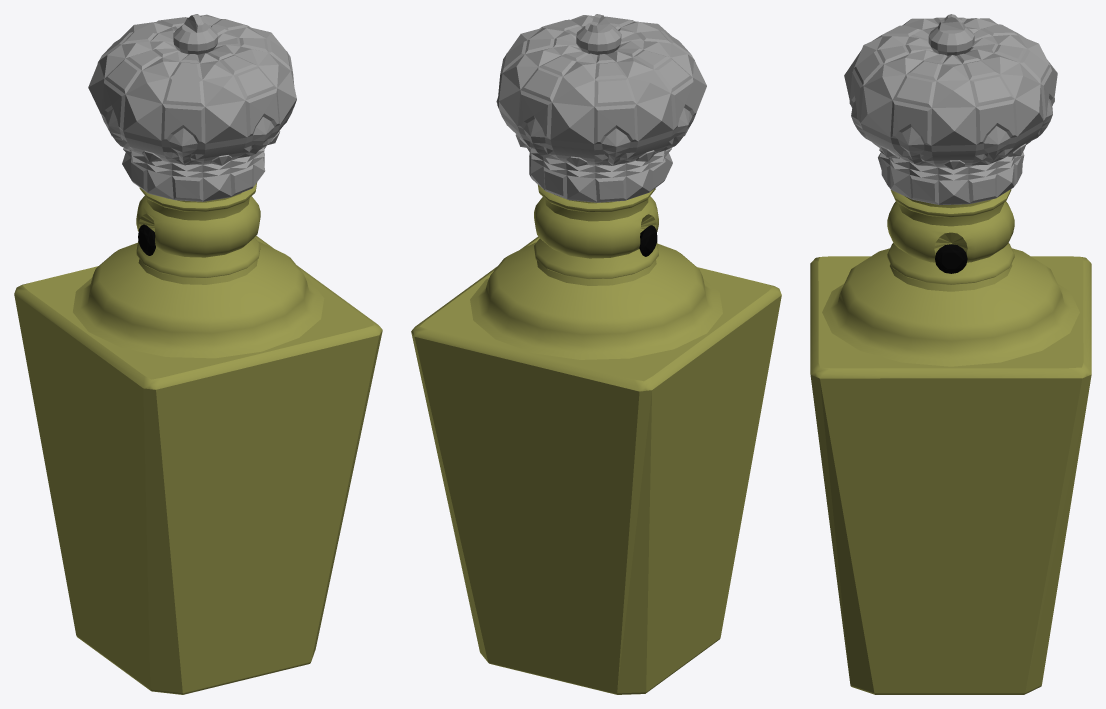
File: Perfume.FBX
The picture shows the model from 3 angles, left to right: view 1: azimuth 30°, elevation 25°; view 2: azimuth 150°, elevation 25°; view 3: azimuth 270°, elevation 25°; orthographic projection.
Parts seen in each view (by area): view 1: clive03, clive01; view 2: clive03, clive01; view 3: clive03, clive01, clive00.
Part boxes in pixels (bbox=[...]): clive03: bbox=[14, 183, 382, 694]; clive01: bbox=[88, 14, 296, 201]; clive03: bbox=[411, 184, 781, 694]; clive01: bbox=[496, 14, 706, 202]; clive03: bbox=[810, 189, 1091, 694]; clive01: bbox=[844, 14, 1057, 204]; clive00: bbox=[935, 244, 967, 273].
Size of the model in its own units: 17.69 by 44.4 by 17.69.
